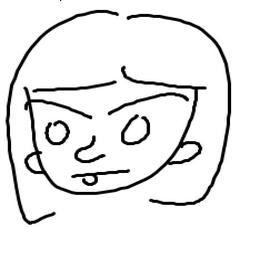ear: (161, 135, 207, 164), (23, 151, 43, 177)
empty_eye: (119, 114, 156, 147), (41, 119, 73, 149)
frowning_eyebrow: (104, 91, 191, 116), (23, 97, 94, 122)
line_unsmiling_mouth: (68, 167, 130, 179)
nose: (71, 133, 107, 165)
